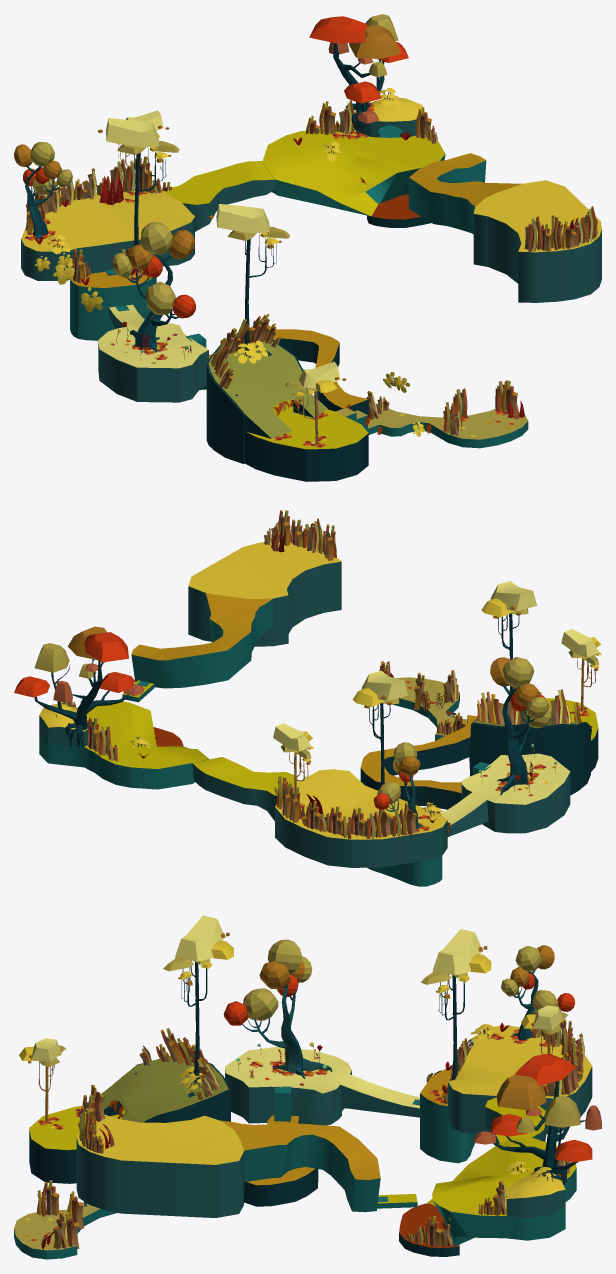
Rendered from outono_FBX.fbx.
3 renders of one model, top to bottom at view 1: azimuth 30°, elevation 25°; view 2: azimuth 150°, elevation 25°; view 3: azimuth 270°, elevation 25°, orthographic. The views are drawn at different scales.
Visible parts, largest first — view 1: polySurface6, pCube10, pCube24, pCube4, pCube7, pCube5, ArvoreGrande_TipoA, ArvoreMedia_TipoB, pCube14, pCube9, polySurface1, pCube6 (+5 smaller); view 2: pCube10, pCube24, polySurface6, pCube14, pCube7, ArvoreGrande_TipoA, pCube4, pCube6, ArvoreMedia_TipoB, ArvoraMagrinha2, ArvoreMedia_TipoB1, ArvoraMagrinha1 (+4 smaller); view 3: pCube24, polySurface6, pCube7, pCube14, pCube10, ArvoreGrande_TipoA, ArvoreMedia_TipoB, pCube4, pCube5, ArvoraMagrinha1, ArvoraMagrinha2, pCube9 (+8 smaller).
Boxes of the visible parts, box(x1,y1,x2,y2) form: polySurface6: box(262, 97, 445, 216); pCube10: box(21, 161, 275, 280); pCube24: box(473, 180, 601, 302); pCube4: box(206, 340, 368, 481); pCube7: box(98, 304, 208, 402); pCube5: box(208, 339, 327, 438); ArvoreGrande_TipoA: box(309, 14, 408, 133); ArvoreMedia_TipoB: box(112, 222, 195, 352); pCube14: box(408, 153, 521, 234); pCube9: box(70, 270, 156, 340); polySurface1: box(369, 408, 528, 448); pCube6: box(199, 329, 368, 415); pCube10: box(192, 757, 447, 867); pCube24: box(188, 542, 341, 646); polySurface6: box(39, 701, 208, 789); pCube14: box(131, 593, 272, 688); pCube7: box(441, 753, 570, 836); ArvoreGrande_TipoA: box(14, 626, 144, 750); pCube4: box(469, 698, 598, 795); pCube6: box(360, 715, 477, 809); ArvoreMedia_TipoB: box(490, 657, 551, 795); ArvoraMagrinha2: box(352, 670, 408, 785); ArvoreMedia_TipoB1: box(373, 742, 423, 828); ArvoraMagrinha1: box(481, 581, 536, 700); pCube24: box(76, 1114, 244, 1217); polySurface6: box(427, 1137, 576, 1246); pCube7: box(225, 1047, 419, 1125); pCube14: box(220, 1120, 380, 1212); pCube10: box(448, 1025, 592, 1143); ArvoreGrande_TipoA: box(474, 1054, 601, 1184); ArvoreMedia_TipoB: box(223, 939, 332, 1078); pCube4: box(29, 1063, 230, 1183); pCube5: box(101, 1055, 228, 1122); ArvoraMagrinha1: box(163, 915, 233, 1082); ArvoraMagrinha2: box(421, 929, 491, 1080); pCube9: box(420, 1068, 476, 1163).
Bounding box in the file's own units: 26712 × 12967 × 30088.
